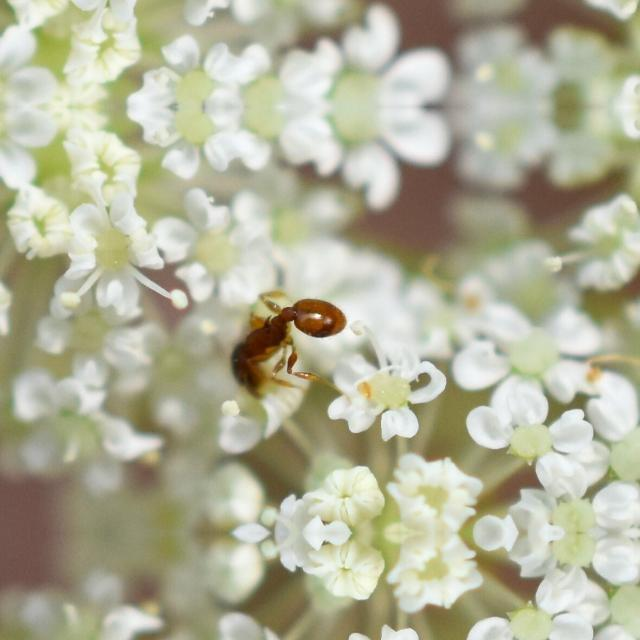Temnothorax: (196, 269, 370, 409)
